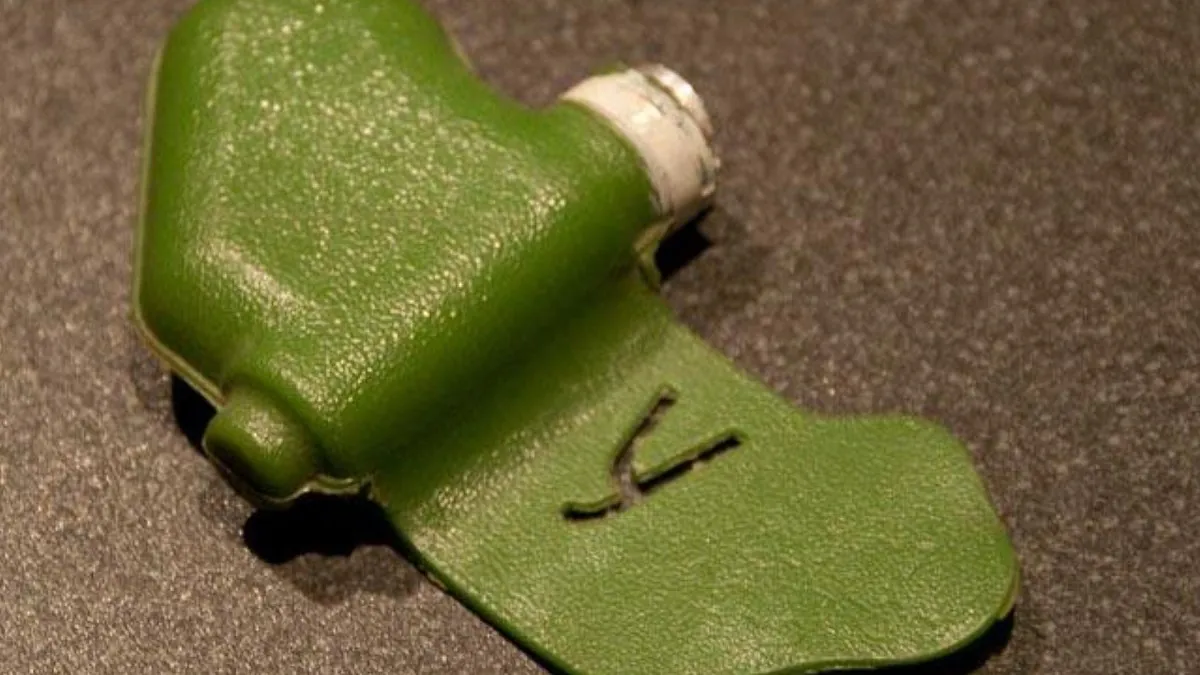butterfly: (144, 3, 1052, 667)
